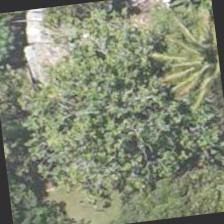Kelapa_Sawit: (157, 4, 223, 100)
